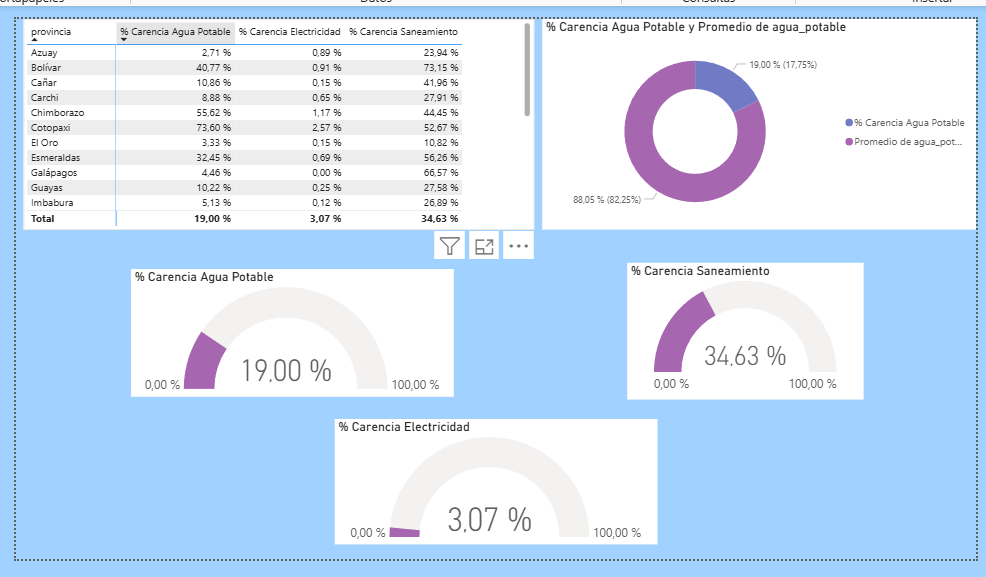

The page's visual inventory and layout, read from the dashboard file:
{"tool":"powerbi","page":{"name":"Página 3","canvas":[1280,720],"ordinal":2},"visuals":[{"type":"pivotTable","fields":{"Rows":["public dim_geografia.provincia"],"Values":["public fact_condicion_hogar.% Carencia Agua Potable","public fact_condicion_hogar.% Carencia Electricidad","public fact_condicion_hogar.% Carencia Saneamiento"]},"box":[10,0,681.1,281.1],"z":0},{"type":"gauge","fields":{"Y":["public fact_condicion_hogar.% Carencia Agua Potable"]},"box":[152.5,332.5,430,170],"z":1000},{"type":"gauge","fields":{"Y":["public fact_condicion_hogar.% Carencia Electricidad"]},"box":[425,532.5,430,167.5],"z":2000},{"type":"gauge","fields":{"Y":["public fact_condicion_hogar.% Carencia Saneamiento"]},"box":[815,325,315,182.5],"z":3000},{"type":"donutChart","fields":{"Y":["public fact_condicion_hogar.% Carencia Agua Potable","Avg(public fact_condicion_hogar.agua_potable)"]},"box":[701,0,579,281],"z":4000}]}

Visuals, with their boxes on the page's 1280x720 design canvas (x1, y1, x2, y2). These are canvas units, not pixel positions in the 986x577 screenshot, which may show the page scaled, cropped or inside an application window:
pivotTable - public dim_geografia.provincia x public fact_condicion_hogar.% Carencia Agua Potable: pyautogui.locateOnScreen(10, 0, 691, 281)
gauge - public fact_condicion_hogar.% Carencia Agua Potable: pyautogui.locateOnScreen(152, 332, 582, 502)
gauge - public fact_condicion_hogar.% Carencia Electricidad: pyautogui.locateOnScreen(425, 532, 855, 700)
gauge - public fact_condicion_hogar.% Carencia Saneamiento: pyautogui.locateOnScreen(815, 325, 1130, 508)
donutChart - public fact_condicion_hogar.% Carencia Agua Potable x Avg(public fact_condicion_hogar.agua_potable): pyautogui.locateOnScreen(701, 0, 1280, 281)
